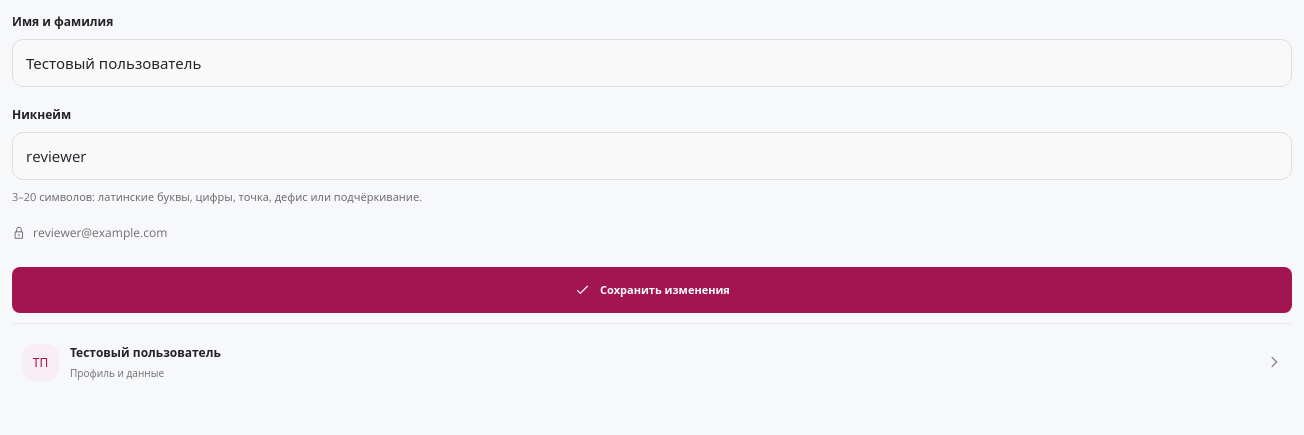
Test: profile changes persist through the existing API and update the sidebar
Replace the text in the field labelled "Имя и фамилия" with "  Алия Тестовая  " at (652, 63), box [12, 39, 1292, 87]
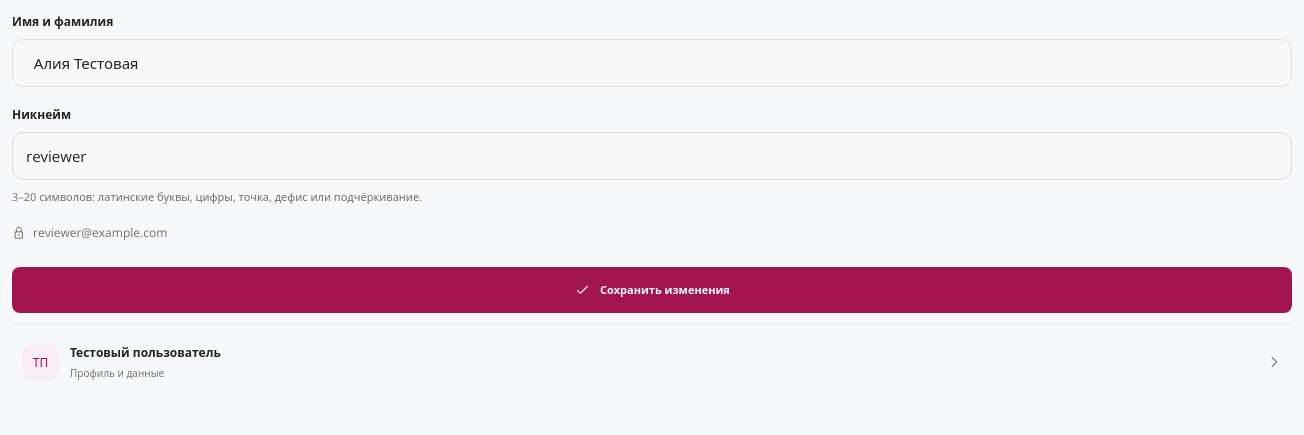
Replace the text in the field labelled "Никнейм" with "aliya.test" at (652, 156), box [12, 132, 1292, 180]
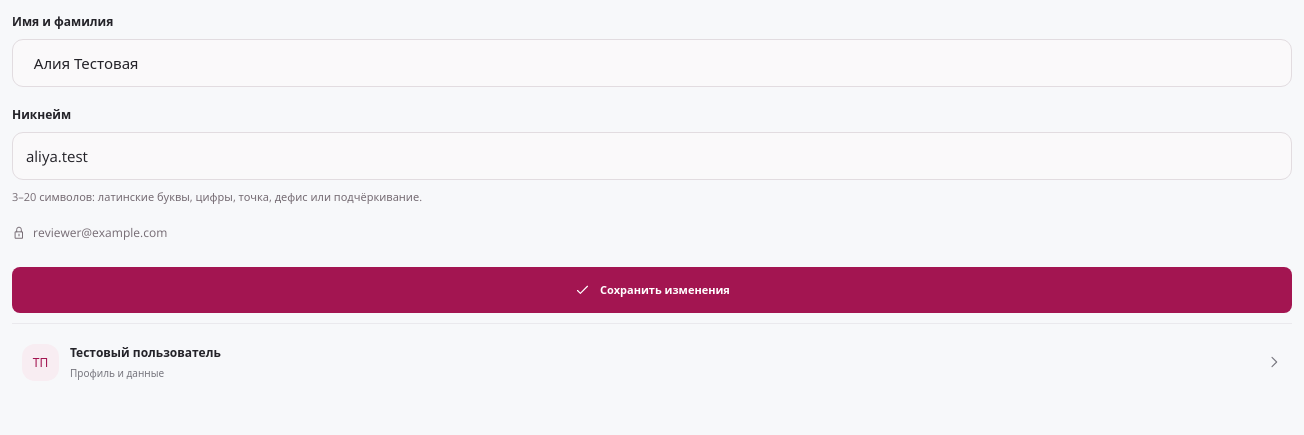
Click the button "Сохранить изменения".
click(652, 290)  # box [12, 267, 1292, 313]
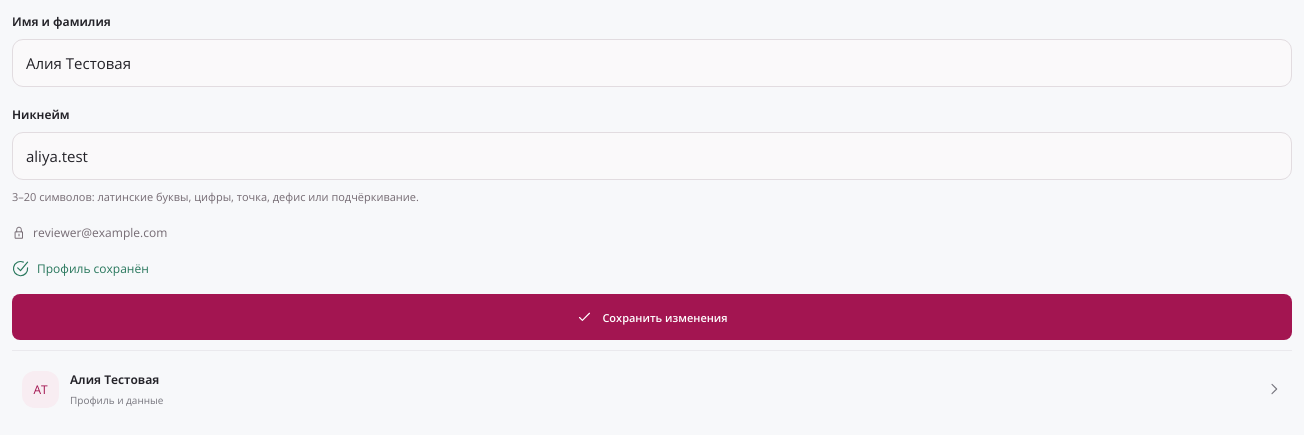
Result: the message reads "Профиль сохранён" at [37, 260, 149, 277]
Result: the button with aria-label "Учётная запись" shows "Алия Тестовая" at [12, 350, 1292, 418]
